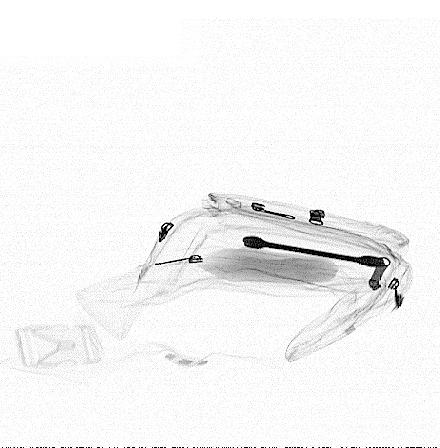Wrench: (243, 235, 393, 267)
